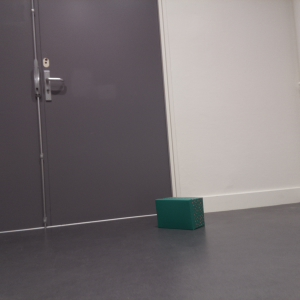small: (155, 195, 207, 233)
